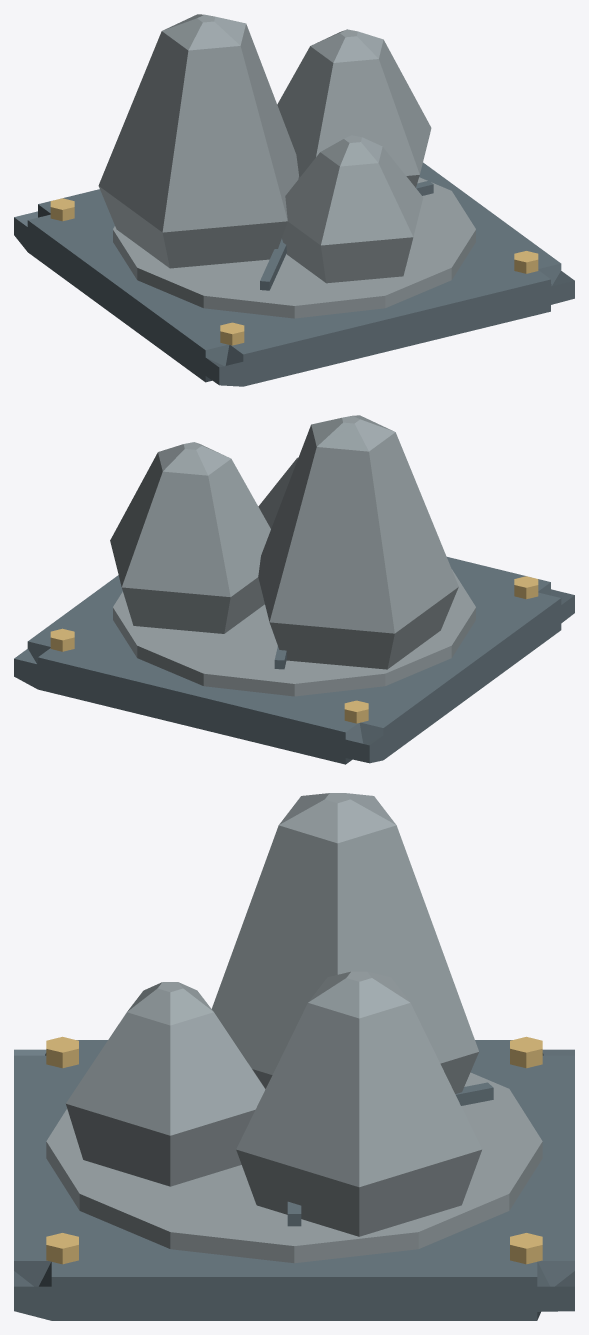
Rendered from TrapFallingRock.fbx.
The picture shows the model from 3 angles, top to bottom: view 1: azimuth 30°, elevation 25°; view 2: azimuth 150°, elevation 25°; view 3: azimuth 270°, elevation 25°; orthographic projection. The views are drawn at different scales.
Parts seen in each view (by area): view 1: TrapFallingRock.002; view 2: TrapFallingRock.002; view 3: TrapFallingRock.002.
Part boxes in pixels (bbox=[...]): TrapFallingRock.002: bbox=[14, 14, 574, 386]; TrapFallingRock.002: bbox=[14, 415, 574, 764]; TrapFallingRock.002: bbox=[14, 793, 574, 1320].
Size of the model in its own units: 104 by 73 by 104.
